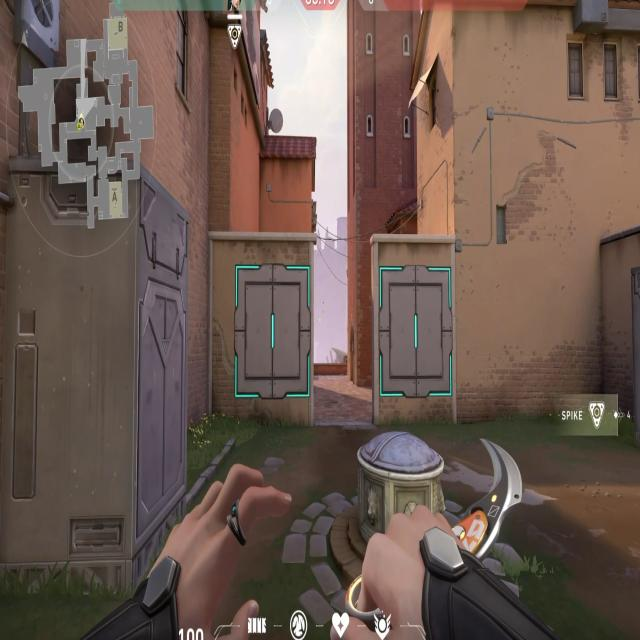Mid_Wall: (367, 234, 462, 426), (229, 239, 316, 427)
